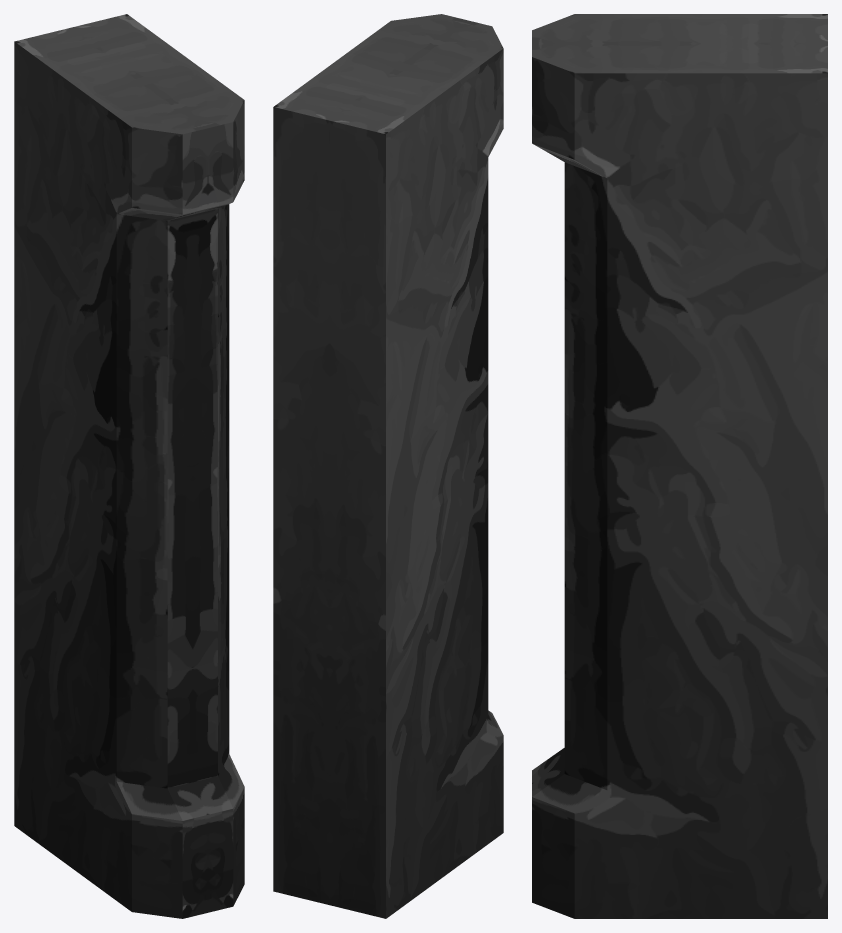
File: VV-EthPawuraElement-2.fbx
The picture shows the model from 3 angles, left to right: view 1: azimuth 30°, elevation 25°; view 2: azimuth 150°, elevation 25°; view 3: azimuth 270°, elevation 25°; orthographic projection. The views are drawn at different scales.
Parts seen in each view (by area): view 1: EthPawuraBlock-1; view 2: EthPawuraBlock-1; view 3: EthPawuraBlock-1.
Boxes of the visible parts, x1,y1,x2,y2 form: EthPawuraBlock-1: (14, 14, 244, 918); EthPawuraBlock-1: (273, 14, 503, 918); EthPawuraBlock-1: (532, 14, 827, 918).
Size of the model in its own units: 0.3 by 2 by 0.6329.
